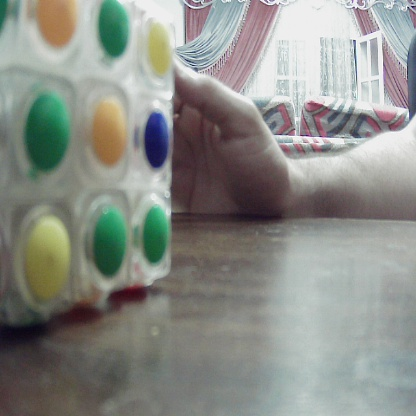Rubix Cube: (2, 3, 175, 323)
